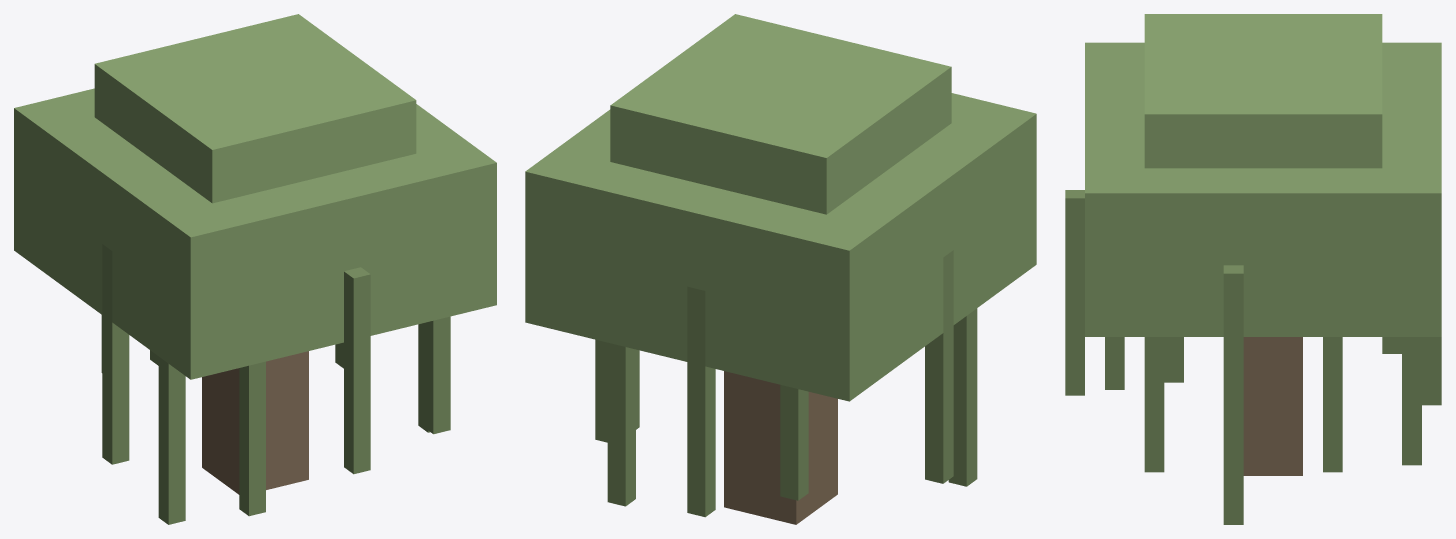
The model's file is sauce_02.glb.
3 renders of one model, left to right at view 1: azimuth 30°, elevation 25°; view 2: azimuth 150°, elevation 25°; view 3: azimuth 270°, elevation 25°, orthographic. The views are drawn at different scales.
Visible parts, largest first — view 1: sauce_02; view 2: sauce_02; view 3: sauce_02.
Part boxes in pixels (x1,y1,x2,y2): sauce_02: (14, 14, 496, 524); sauce_02: (525, 14, 1036, 524); sauce_02: (1065, 14, 1441, 524).
Size of the model in its own units: 1.9 by 2.2 by 1.9.
